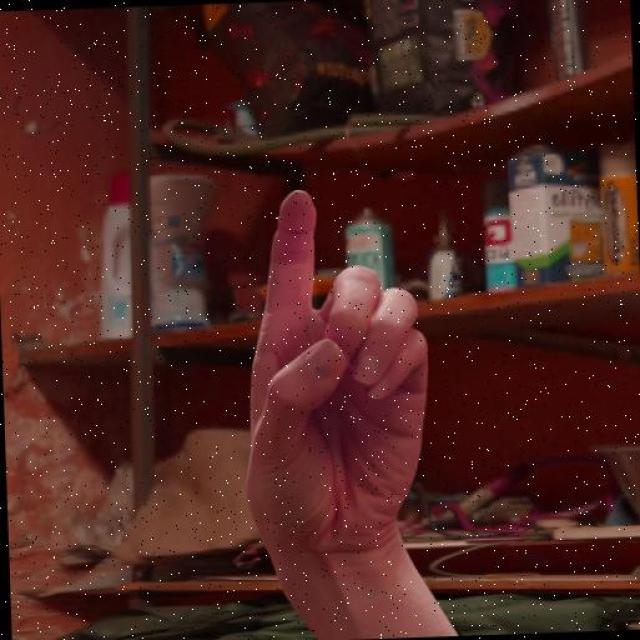X: (232, 177, 449, 572)
